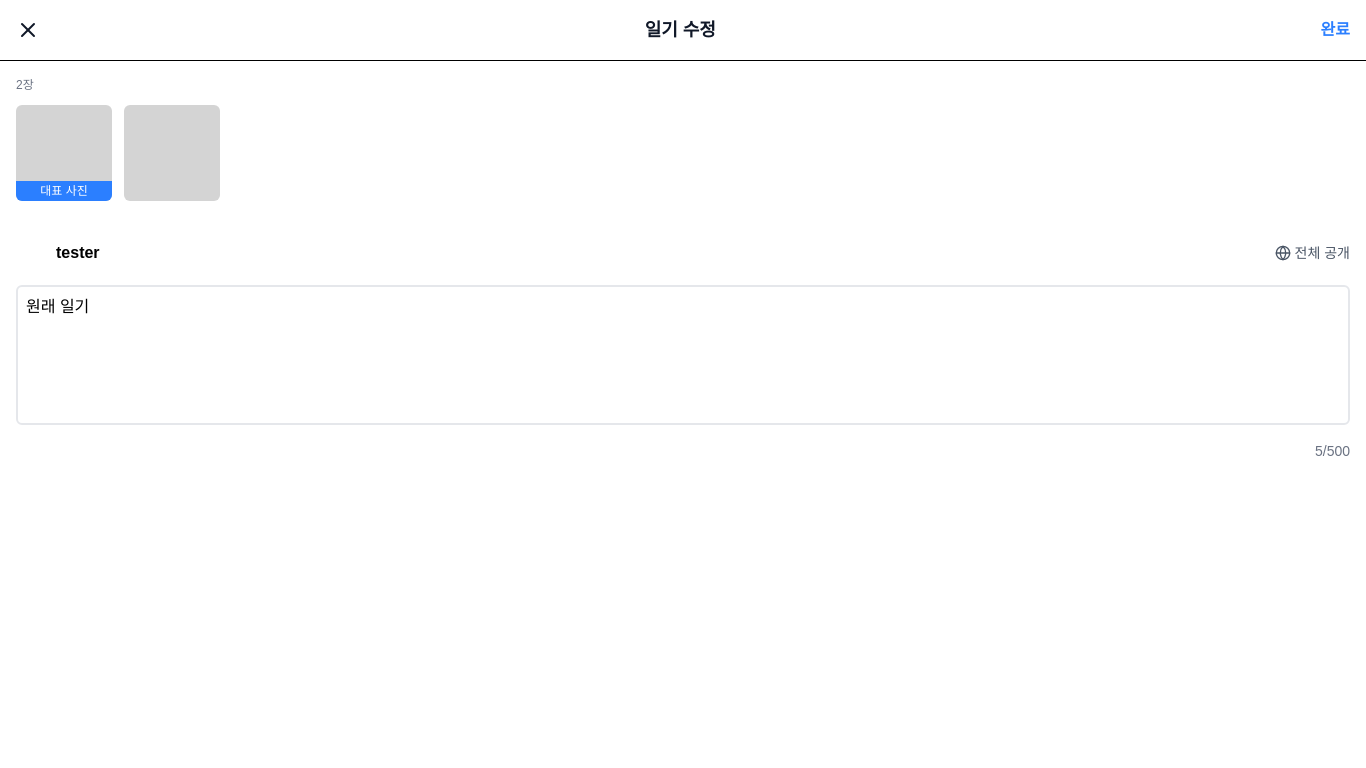
Scenario: DiaryEditForm › 공개 범위를 익명으로 바꾸면 작성자 프로필 사진 대신 익명 아이콘을 보여준다
The image size is (1366, 768).
Expected: the text box named "일기 내용" is shown, [16,285,1350,425]
Click the button "전체 공개".
click(1312, 253)  # box [1275,243,1350,263]
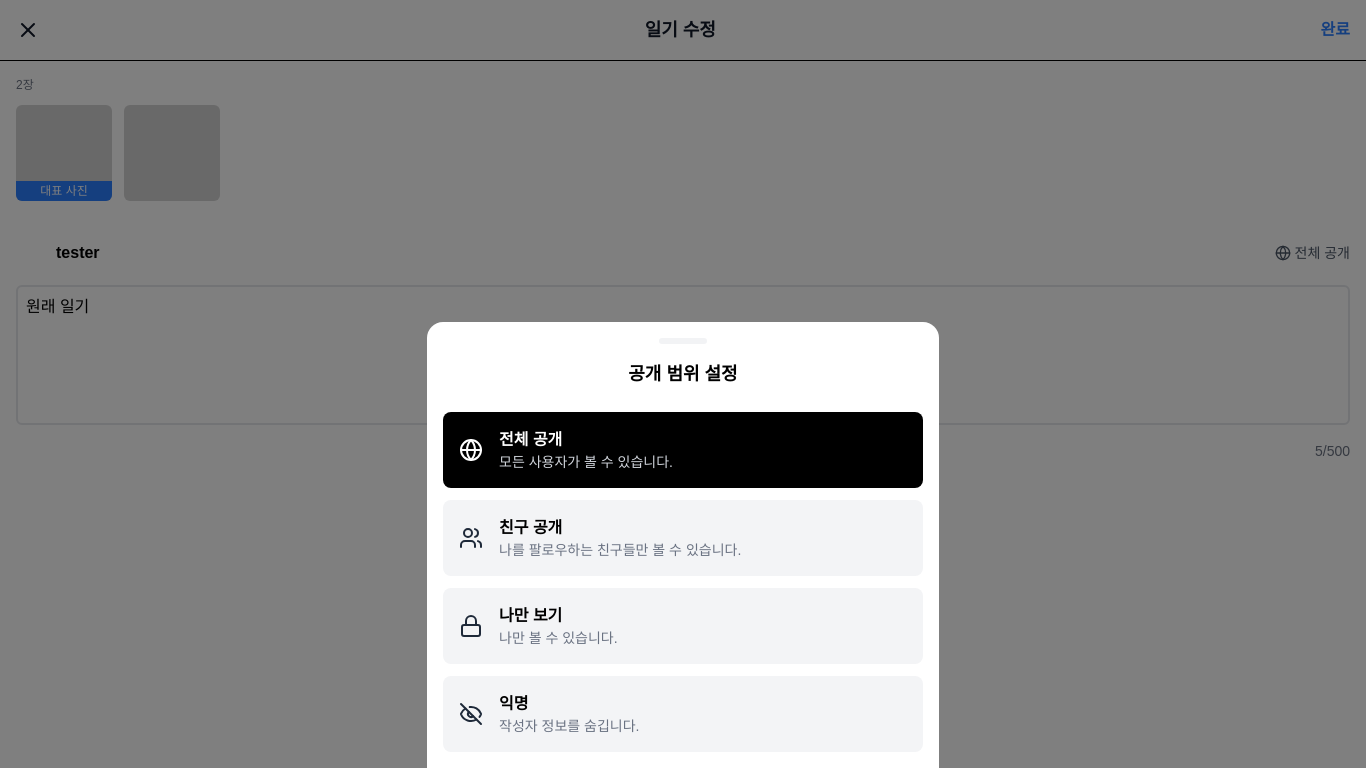
Click the button "익명 작성자 정보를 숨깁니다.".
click(569, 726)  # box [443,676,923,752]
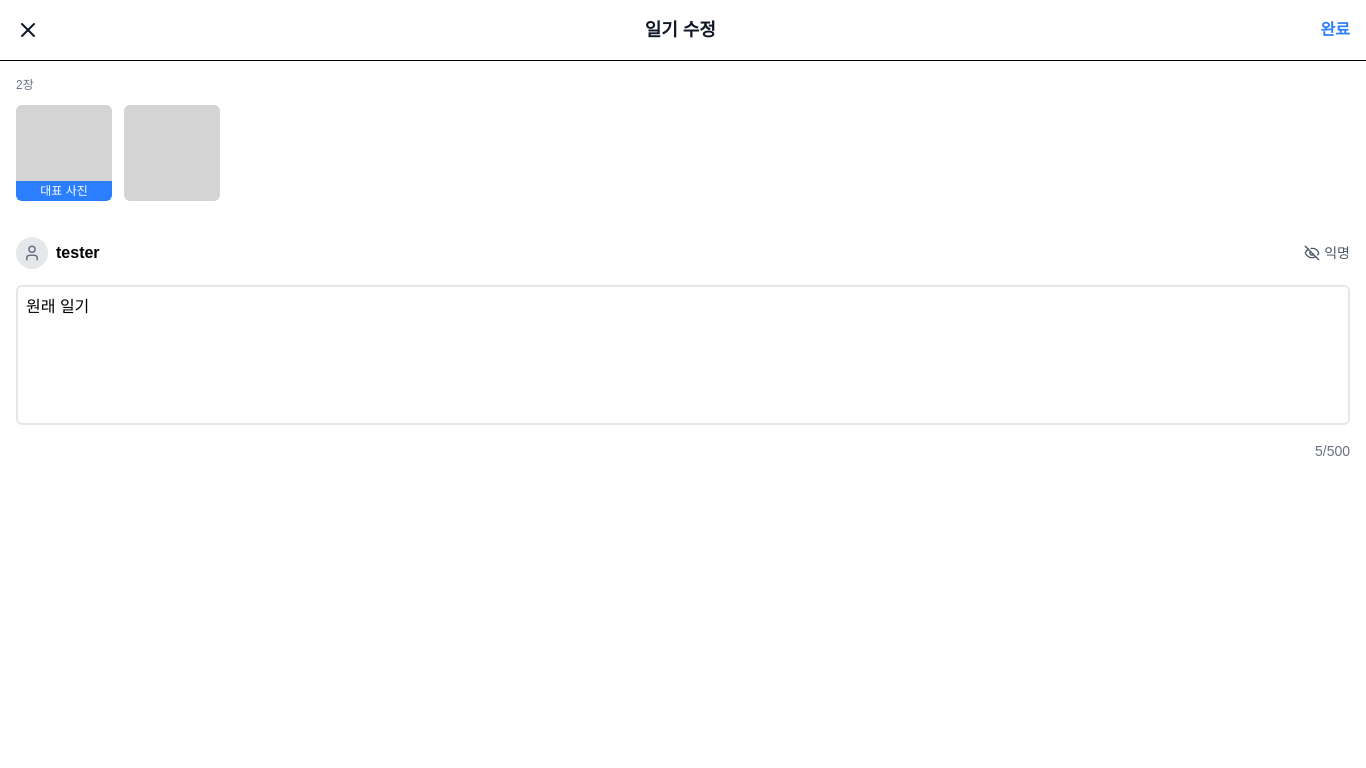
Now the picture named "익명 프로필 아이콘" is shown, box [16,237,48,269]
